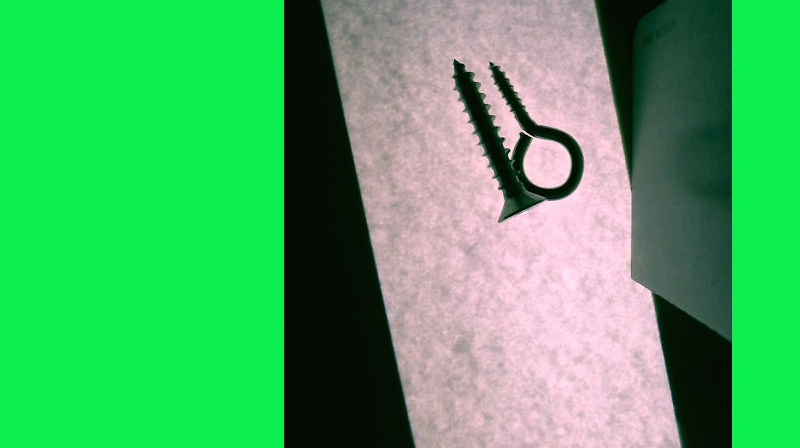O001: (486, 57, 584, 204)
S001: (449, 53, 540, 225)
